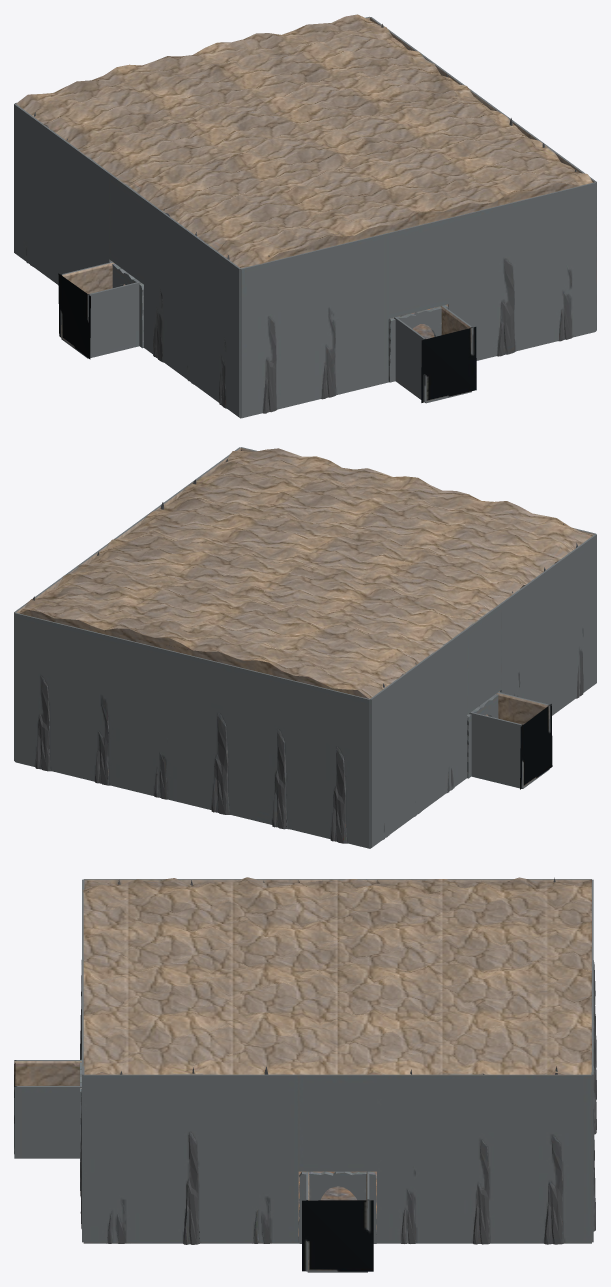
Rendered from room.glb.
3 renders of one model, top to bottom at view 1: azimuth 30°, elevation 25°; view 2: azimuth 150°, elevation 25°; view 3: azimuth 270°, elevation 25°, orthographic. The views are drawn at different scales.
Visible parts, largest first — view 1: DRAGON-ROOM; view 2: DRAGON-ROOM; view 3: DRAGON-ROOM.
Boxes of the visible parts, x1,y1,x2,y2 form: DRAGON-ROOM: (14, 14, 596, 418); DRAGON-ROOM: (14, 447, 596, 848); DRAGON-ROOM: (14, 877, 596, 1272).
Bounding box in the file's own units: 26.04 × 8.79 × 25.24.
1 material, 1 textured.
